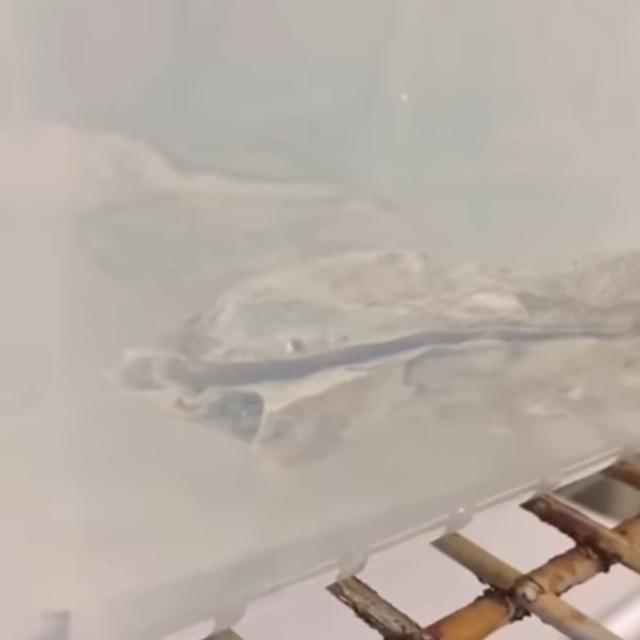Oyster-Indeterminate: (77, 115, 357, 228)
Oyster-Open: (112, 250, 640, 469)
